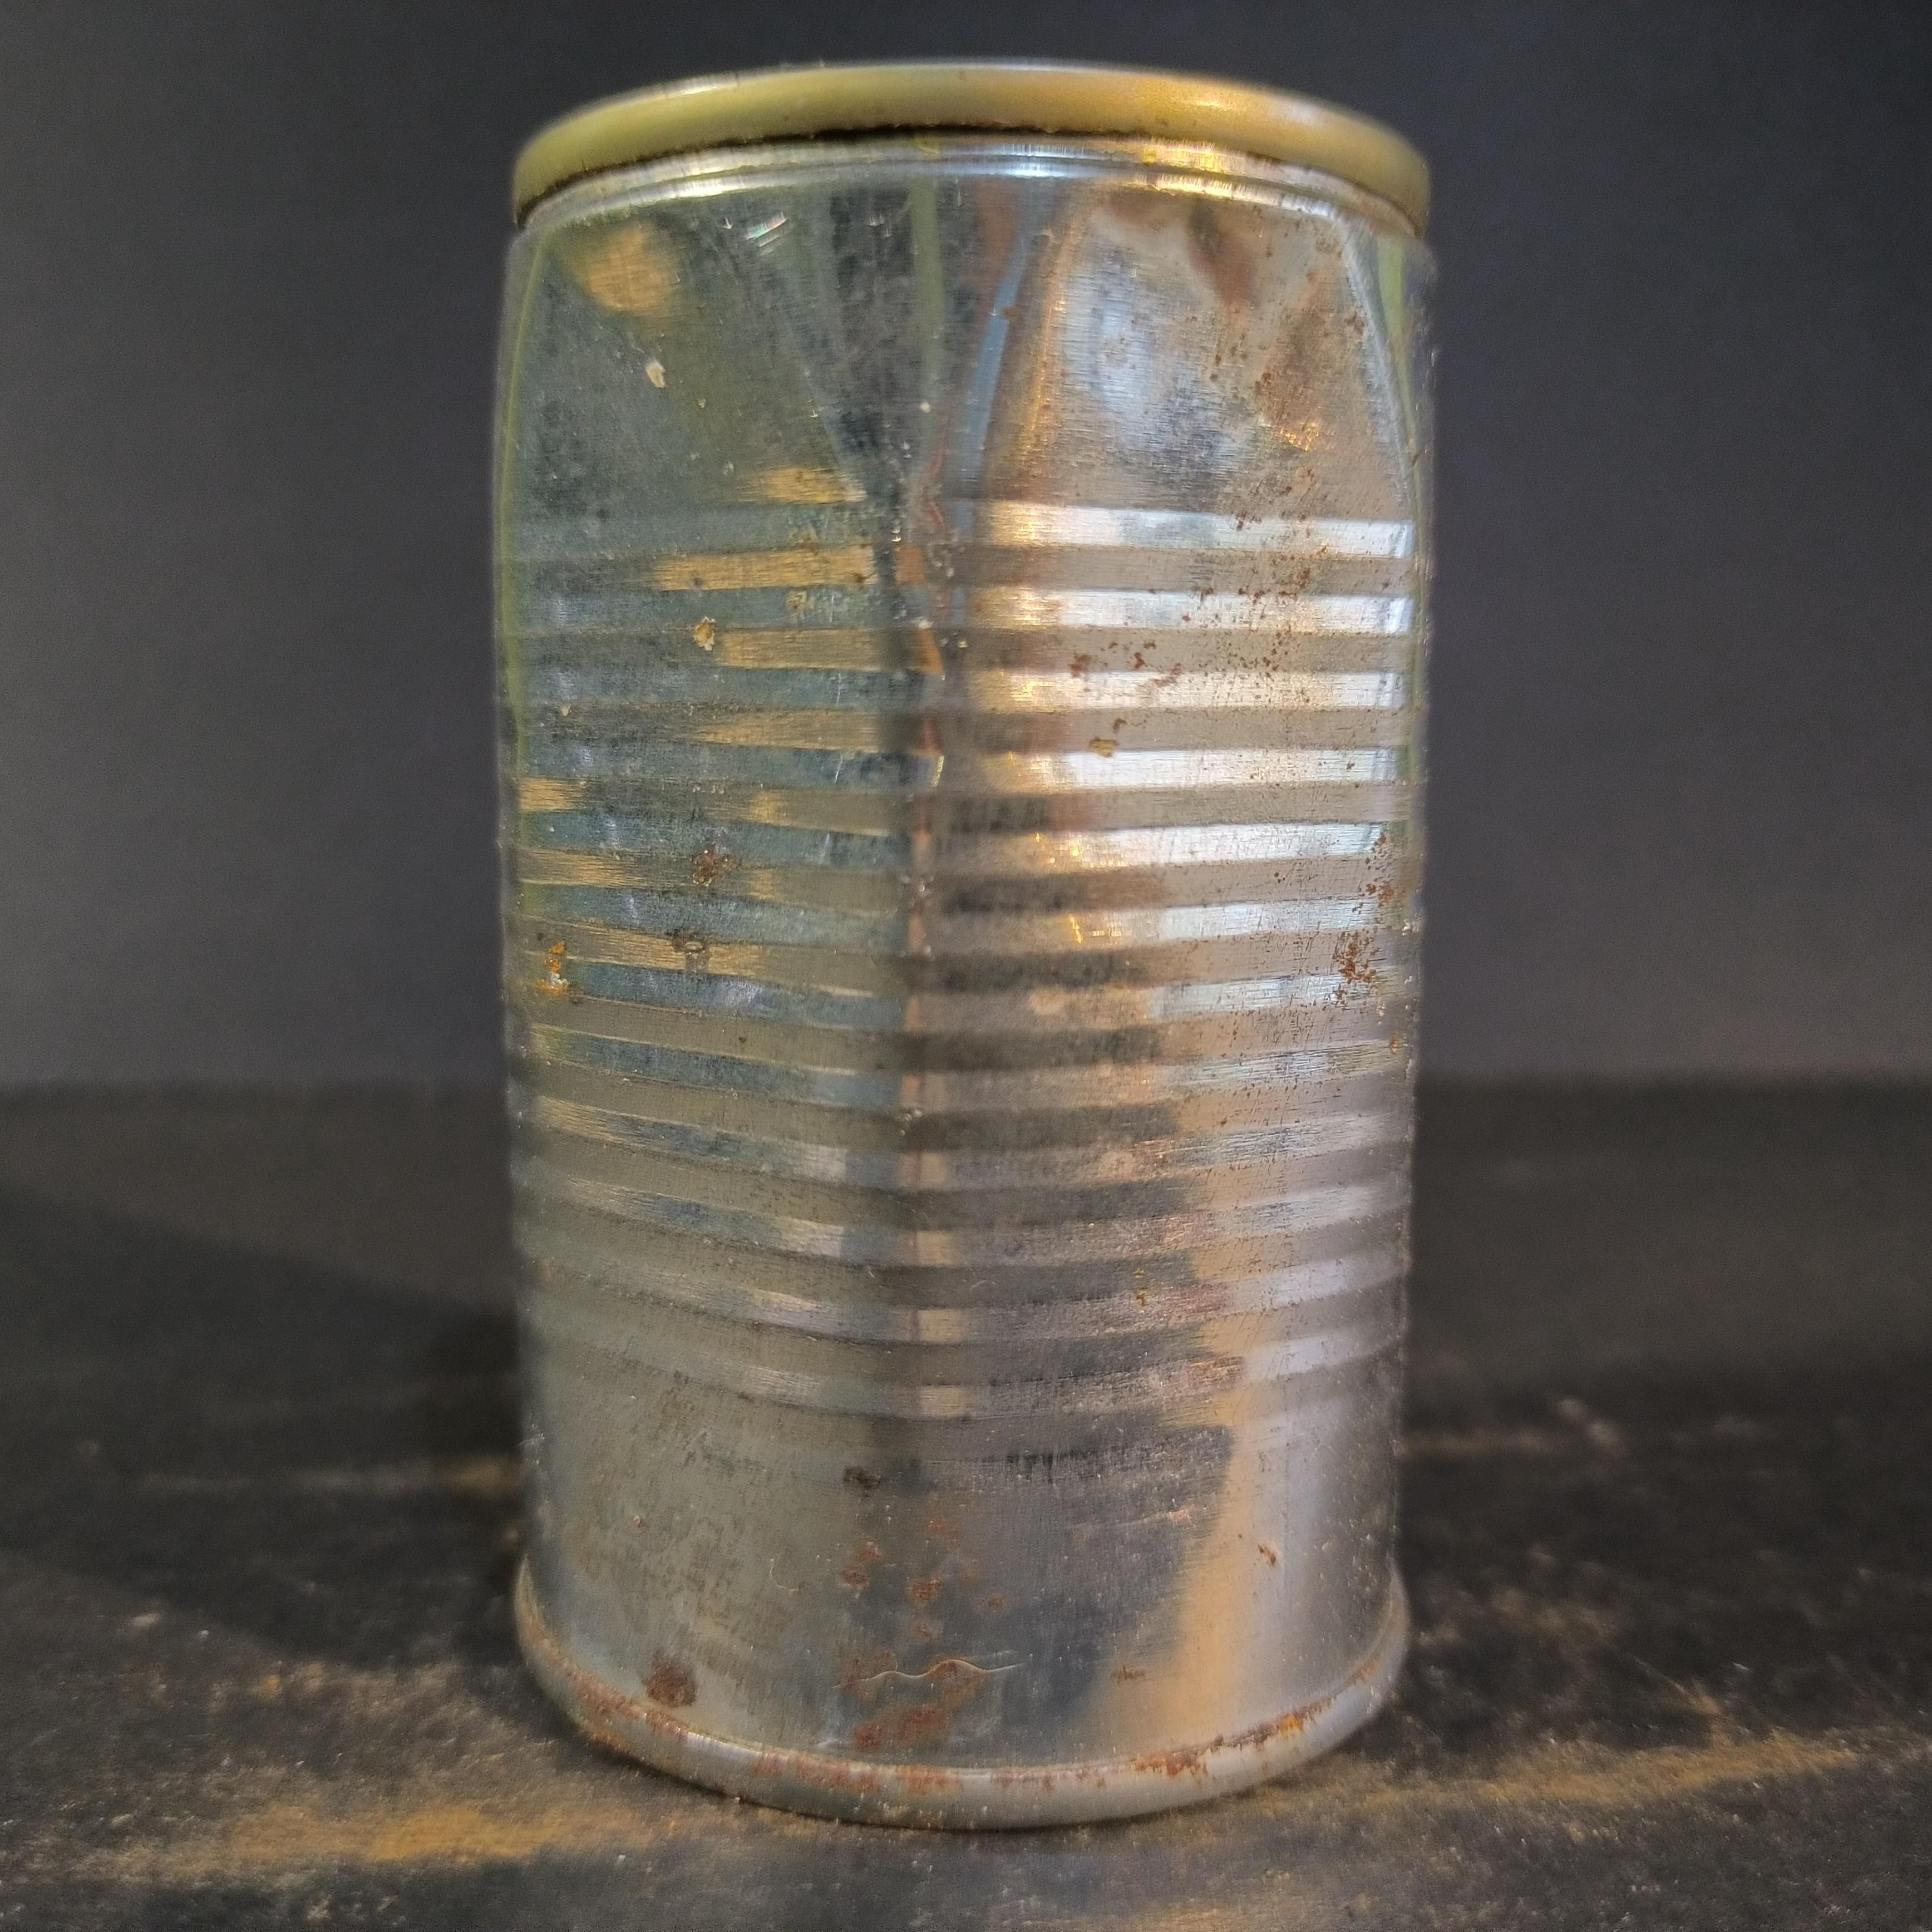Minor Defect: (488, 58, 1438, 1838)
